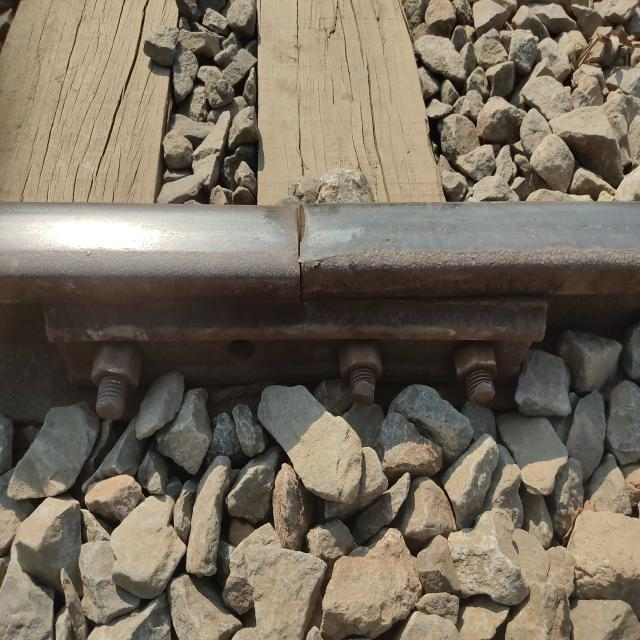non-defective: (225, 155, 441, 393)
